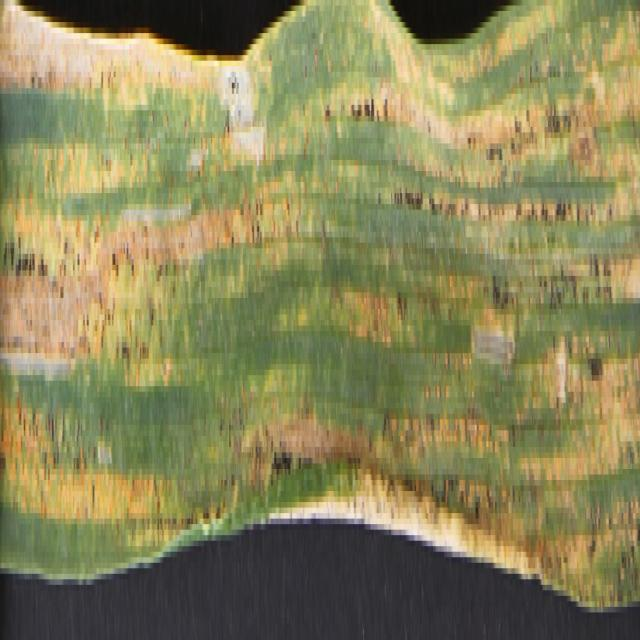leaf rust: (1, 6, 639, 602)
